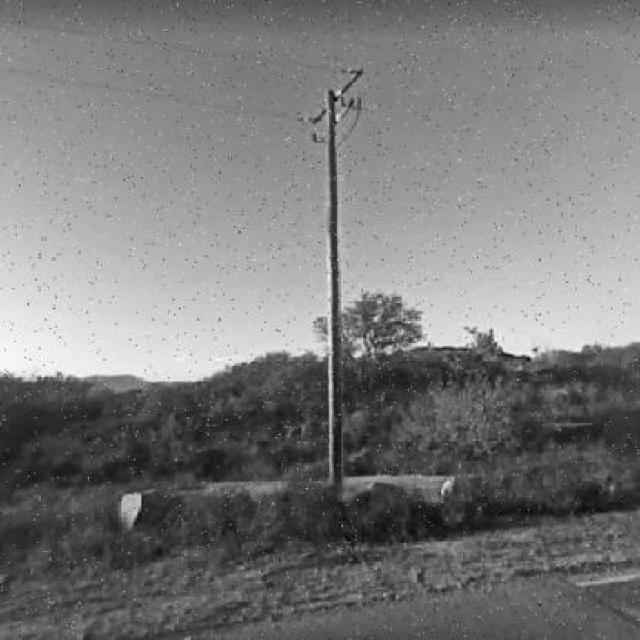pole: (228, 34, 418, 503)
